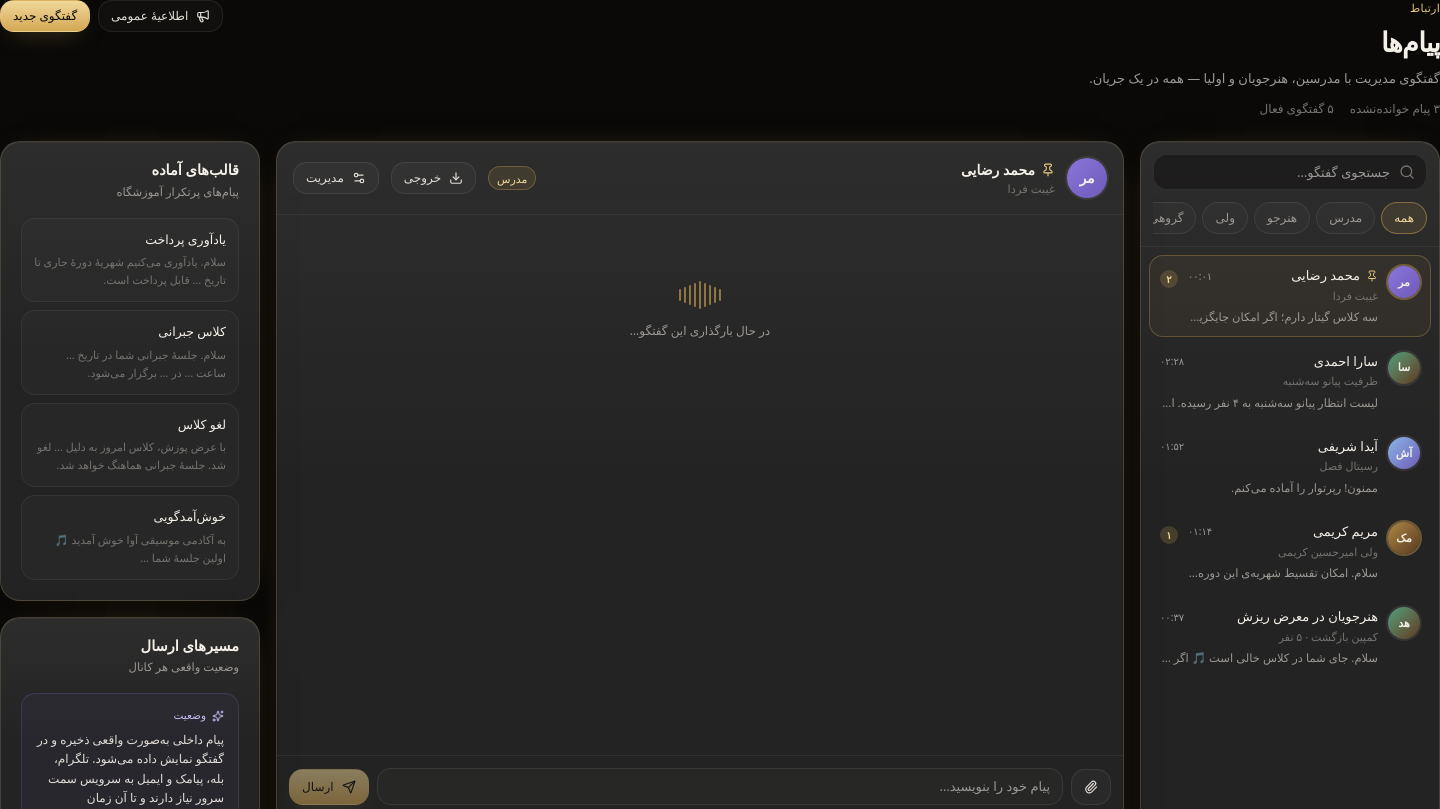
it: rename and topic › refuses a one-character name in the dialog, and writes nothing
Click the 2nd text "محمد رضایی": (1326, 276) [1291,266,1360,286]
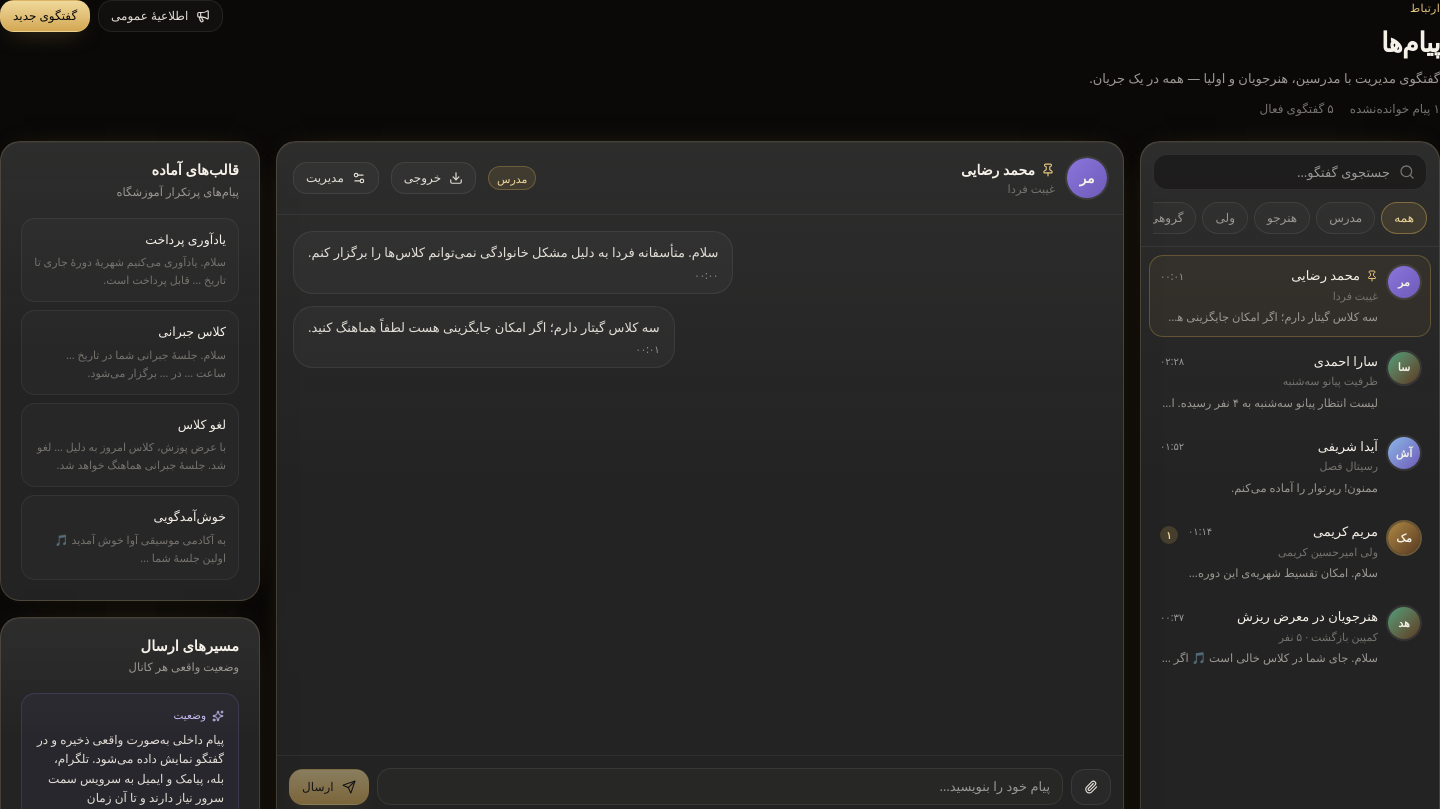
Click the button with aria-label "مدیریت گفتگو": (336, 178) [293,162,379,194]
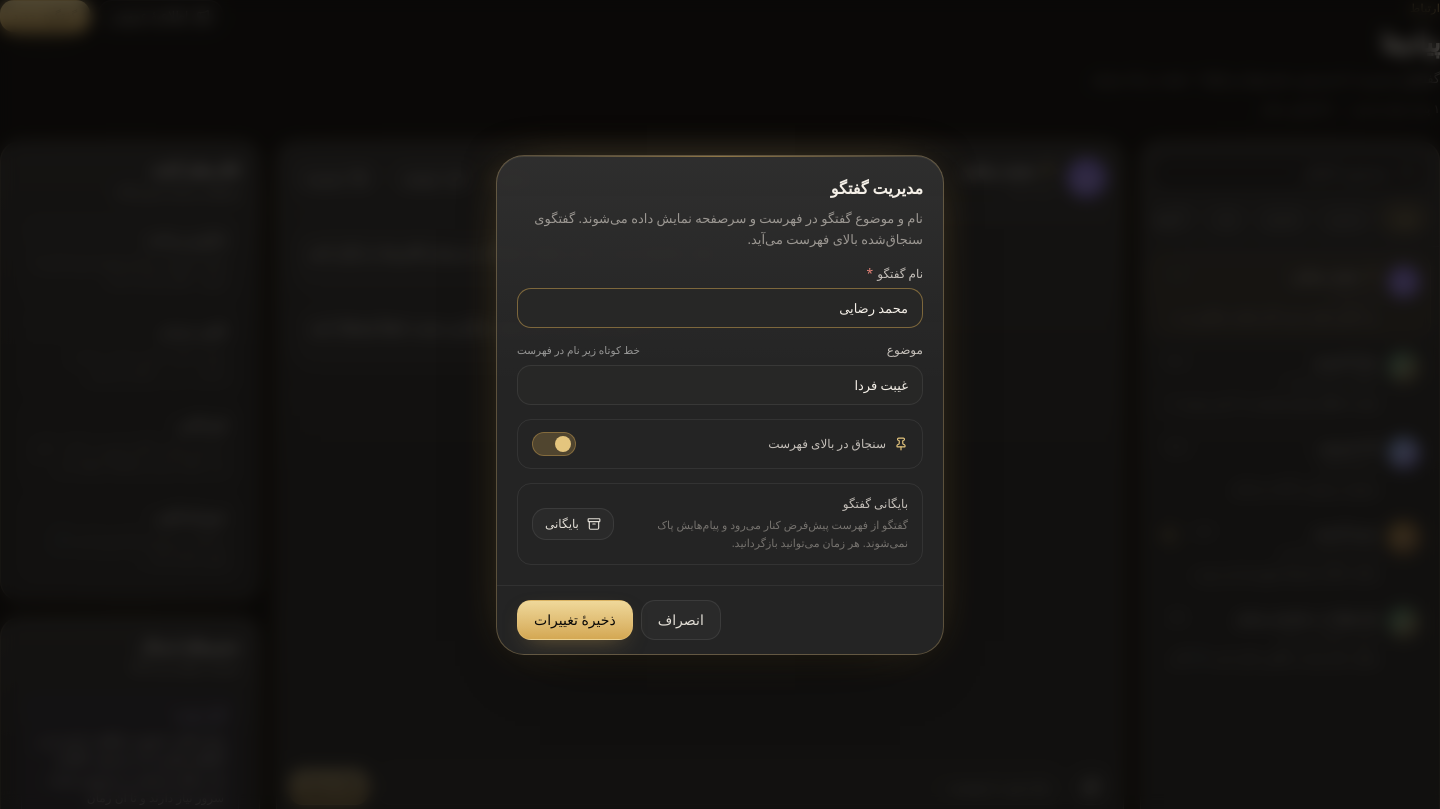
Replace the text in the field labelled "نام گفتگو*" with "ا": (720, 308) [517,288,923,328]
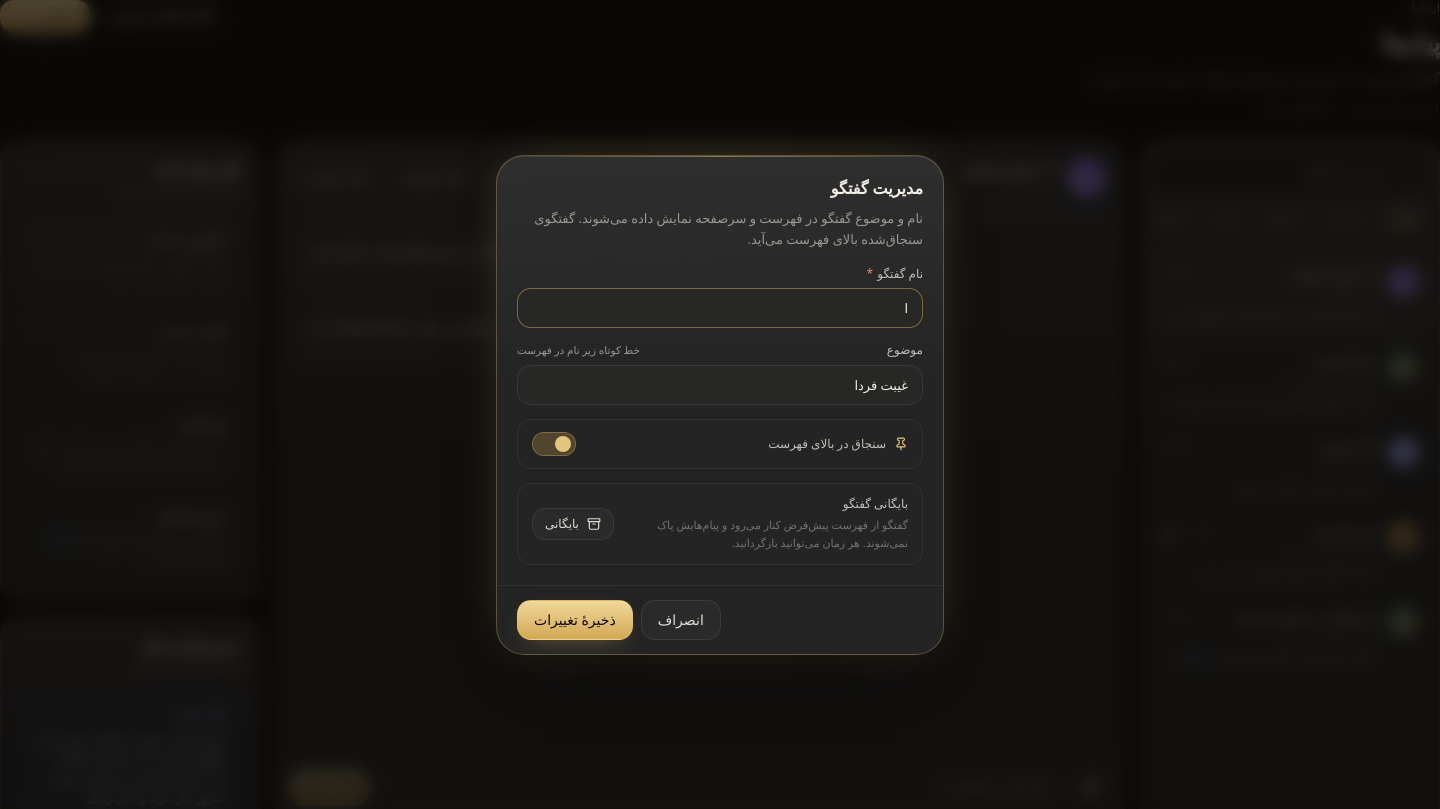
Click the button "ذخیرهٔ تغییرات": (575, 620) [517,600,633,640]
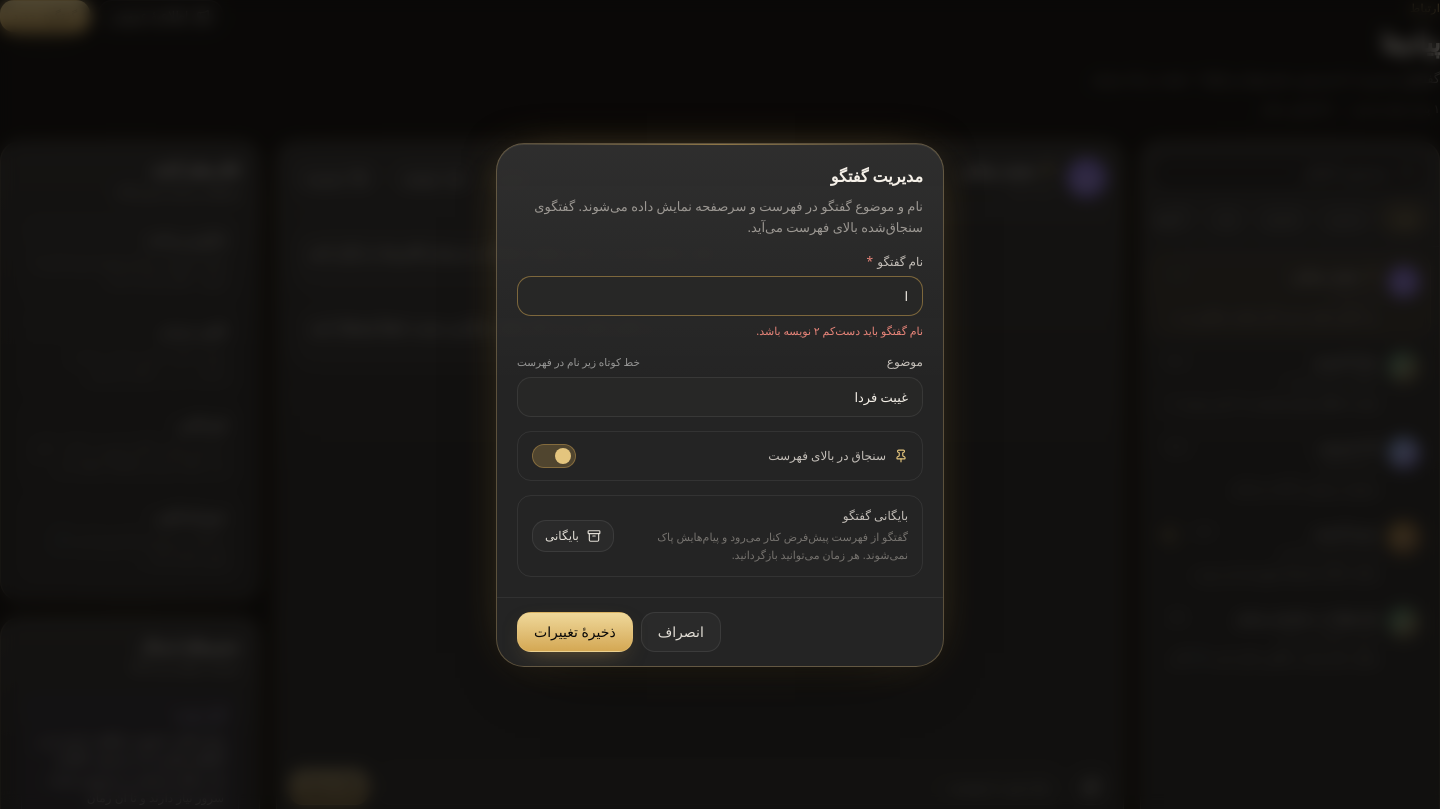
expect the text "نام گفتگو باید دست‌کم ۲ نویسه باشد." is shown: met, box [756,323,923,338]
